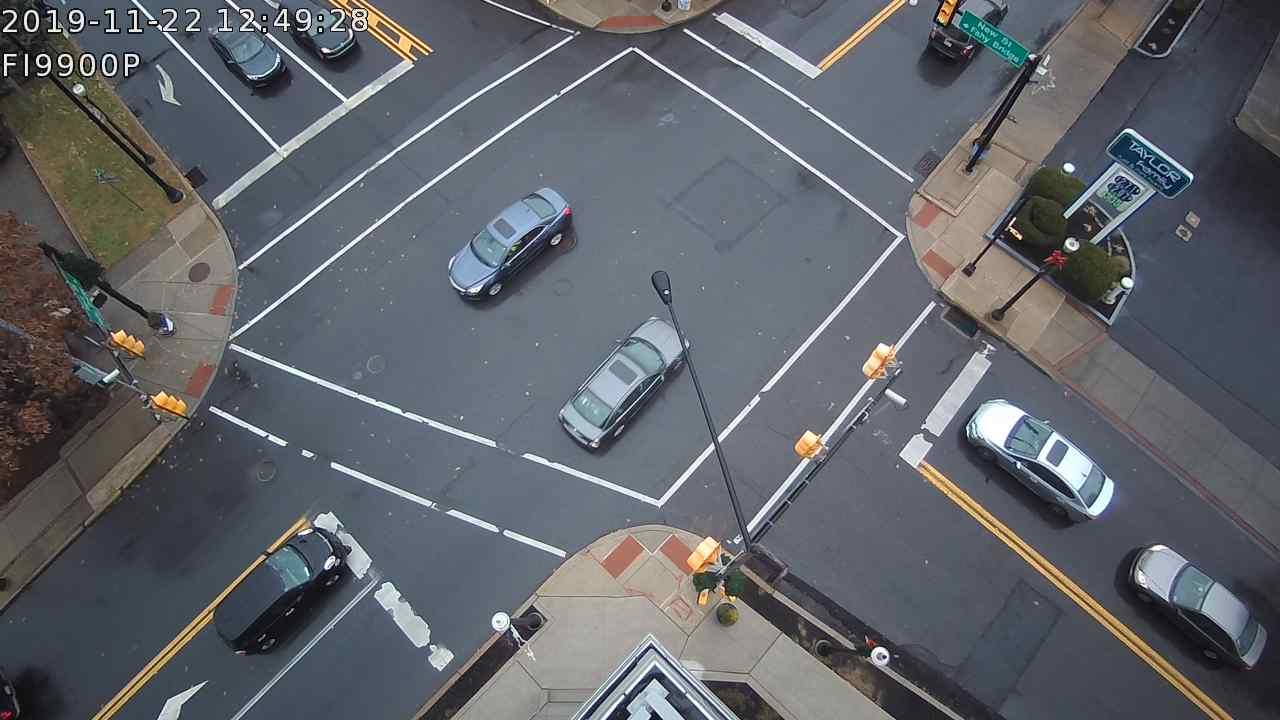car: (960, 392, 1119, 529), (1130, 540, 1280, 683), (551, 316, 690, 451), (212, 526, 346, 654), (439, 185, 574, 307), (204, 11, 288, 90), (924, 1, 1011, 74), (274, 1, 360, 65), (1, 676, 24, 719)
